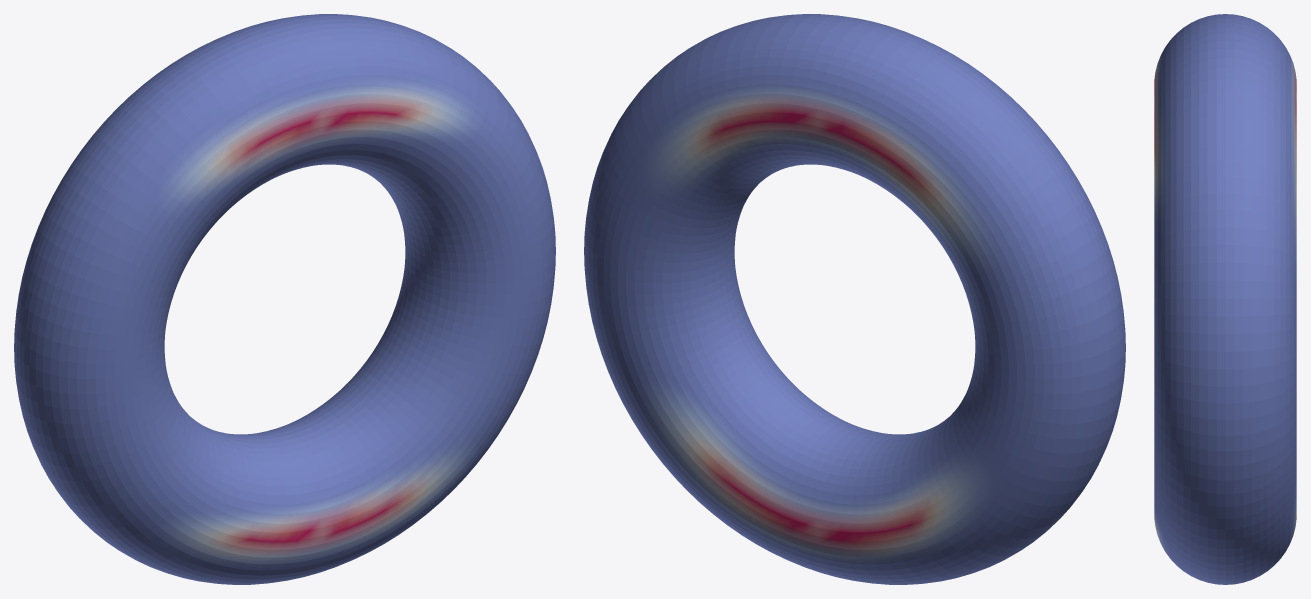
3 renders of one model, left to right at view 1: azimuth 30°, elevation 25°; view 2: azimuth 150°, elevation 25°; view 3: azimuth 270°, elevation 25°, orthographic. The views are drawn at different scales.
Parts seen in each view (by area): view 1: world; view 2: world; view 3: world.
Part boxes in pixels (x1=…): world: x1=14, y1=14, x2=555, y2=584; world: x1=584, y1=14, x2=1125, y2=584; world: x1=1154, y1=14, x2=1296, y2=584.
Size of the model in its own units: 13.33 by 13.33 by 3.33.
